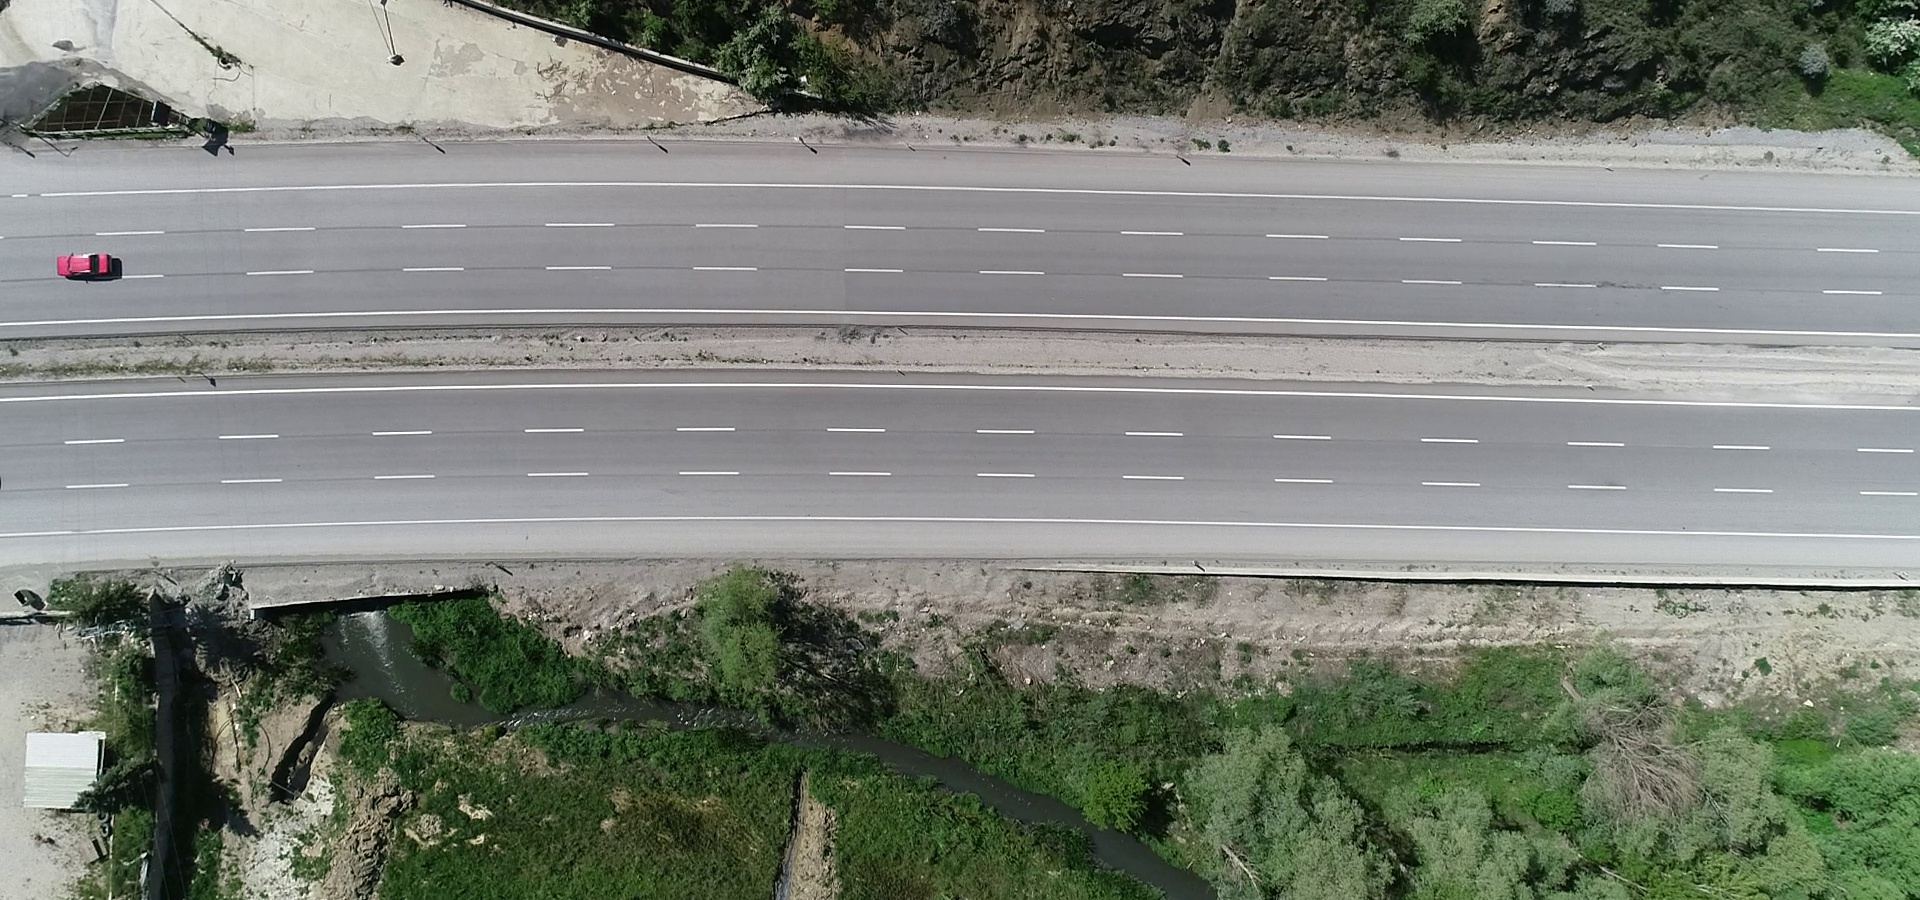araba: (53, 244, 126, 287)
